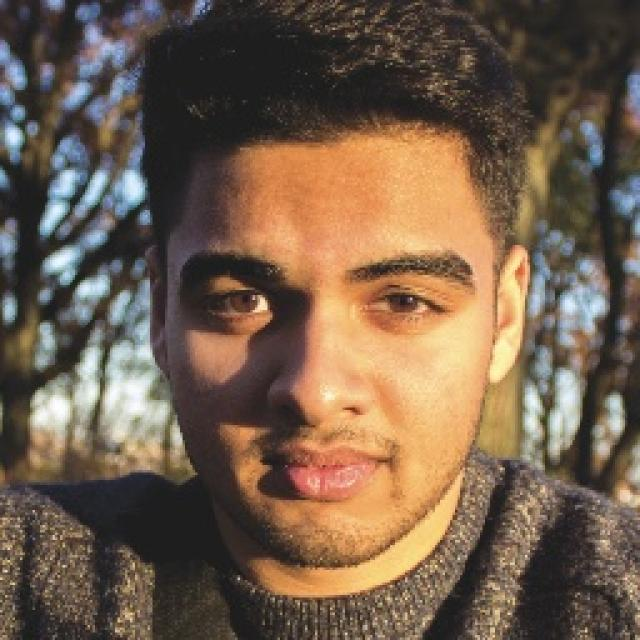earlobe: (488, 245, 530, 385), (143, 243, 170, 377)
